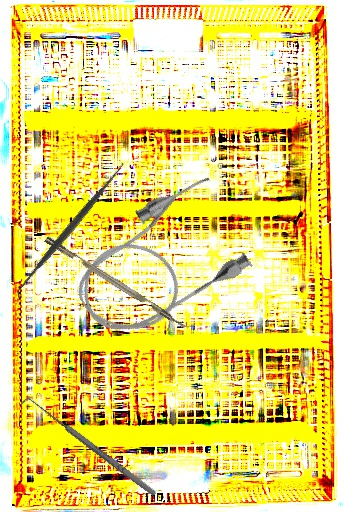Cannula: (56, 167, 262, 355)
Chopper: (44, 228, 197, 336)
Hook Surgical: (18, 392, 160, 503)
Spatula Surgical: (8, 158, 132, 301)
